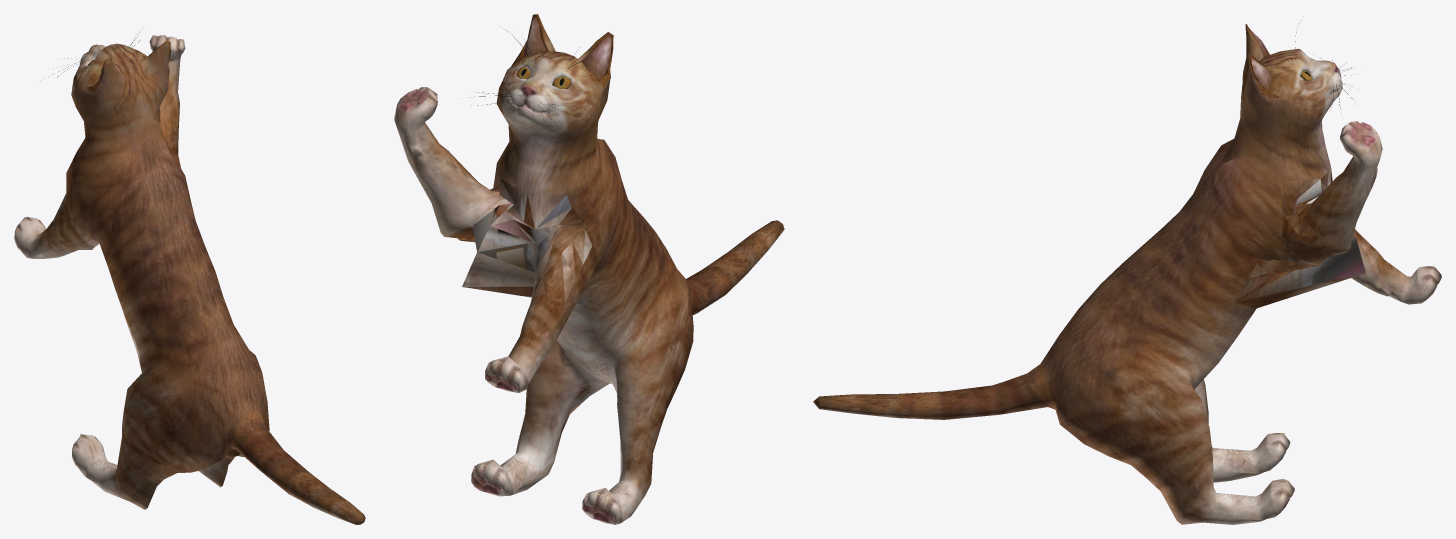
File: Cat1.obj
3 renders of one model, left to right at view 1: azimuth 30°, elevation 25°; view 2: azimuth 150°, elevation 25°; view 3: azimuth 270°, elevation 25°, orthographic. The views are drawn at different scales.
Parts seen in each view (by area): view 1: Mesh1 default_object G_7dd9_1368_3cc6_f1f5_1 Model; view 2: Mesh1 default_object G_7dd9_1368_3cc6_f1f5_1 Model, Mesh68 default_object G_7dd9_1368_3cc6_f1f5_1 Model, Mesh37 default_object G_7dd9_1368_3cc6_f1f5_1 Model; view 3: Mesh1 default_object G_7dd9_1368_3cc6_f1f5_1 Model.
Part boxes in pixels (x1=…): Mesh1 default_object G_7dd9_1368_3cc6_f1f5_1 Model: x1=14, y1=35, x2=365, y2=524; Mesh1 default_object G_7dd9_1368_3cc6_f1f5_1 Model: x1=394, y1=14, x2=784, y2=524; Mesh68 default_object G_7dd9_1368_3cc6_f1f5_1 Model: x1=582, y1=35, x2=611, y2=81; Mesh37 default_object G_7dd9_1368_3cc6_f1f5_1 Model: x1=523, y1=16, x2=546, y2=57; Mesh1 default_object G_7dd9_1368_3cc6_f1f5_1 Model: x1=813, y1=24, x2=1441, y2=524.
Bounding box in the file's own units: 17.46 × 44.1 × 53.6.
1 material, 1 textured.
